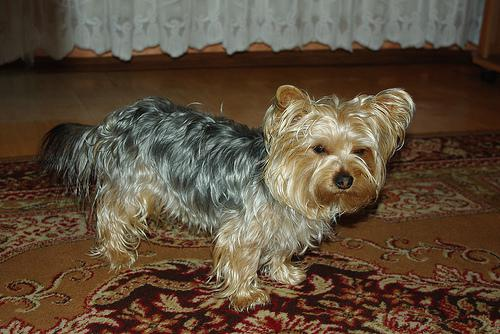dog-yorkshire_terrier: (273, 83, 401, 206)
